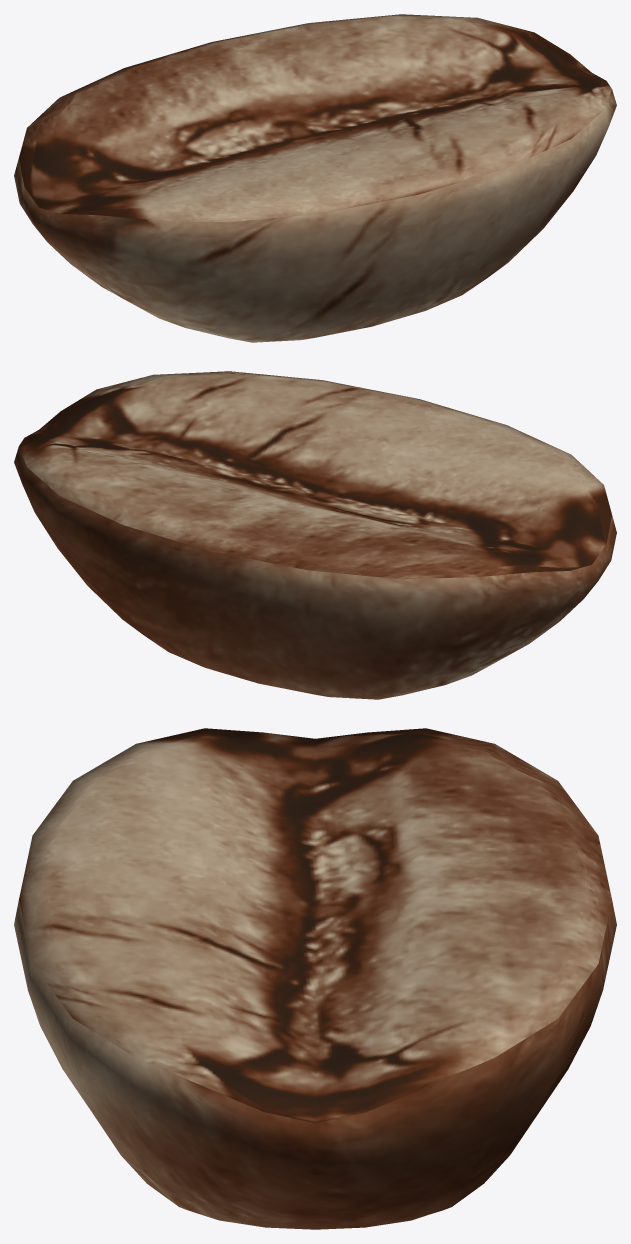
Rendered from coffeeBean.glb.
3 views of the same model, one above another, from view 1: azimuth 30°, elevation 25°; view 2: azimuth 150°, elevation 25°; view 3: azimuth 270°, elevation 25° (orthographic). The views are drawn at different scales.
Visible parts, largest first — view 1: Circle; view 2: Circle; view 3: Circle.
Part boxes in pixels (x1,y1,x2,y2): Circle: (14, 14, 616, 342); Circle: (14, 371, 616, 699); Circle: (14, 728, 616, 1229).
Bounding box in the file's own units: 1.8 × 0.5789 × 1.17.
1 material, 1 textured.
